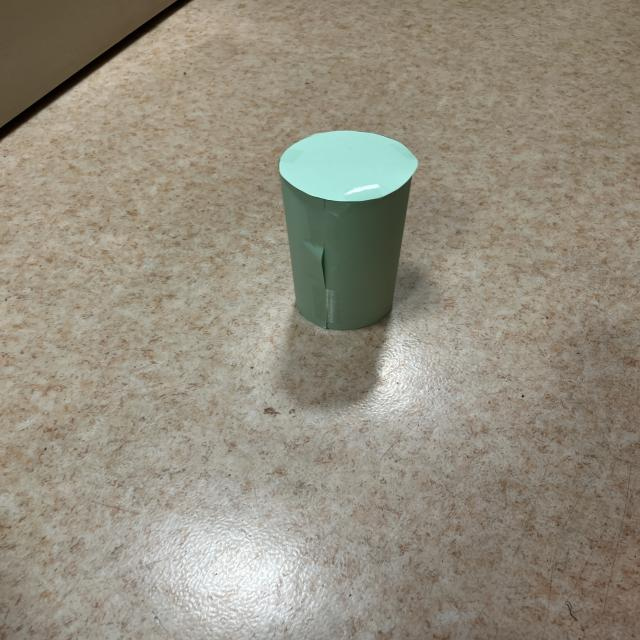meta: (279, 131, 417, 330)
